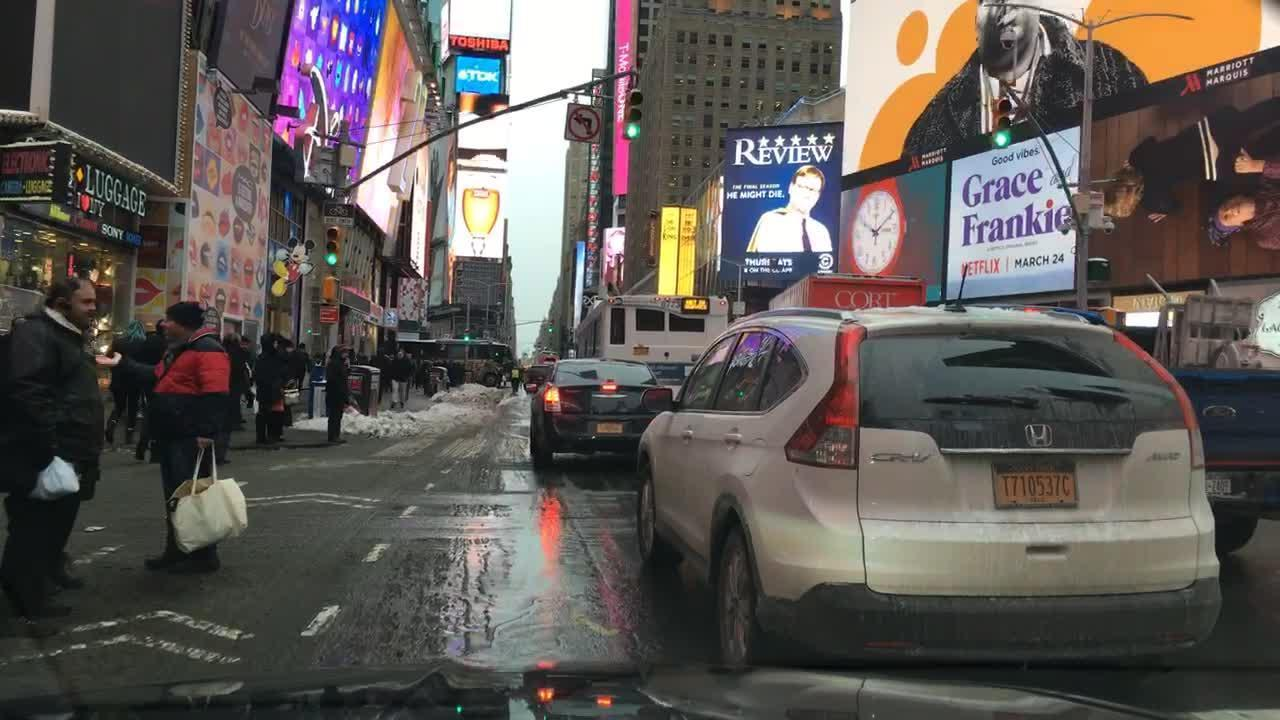Honda: (1015, 404, 1071, 463)
ford: (1198, 399, 1241, 427)
